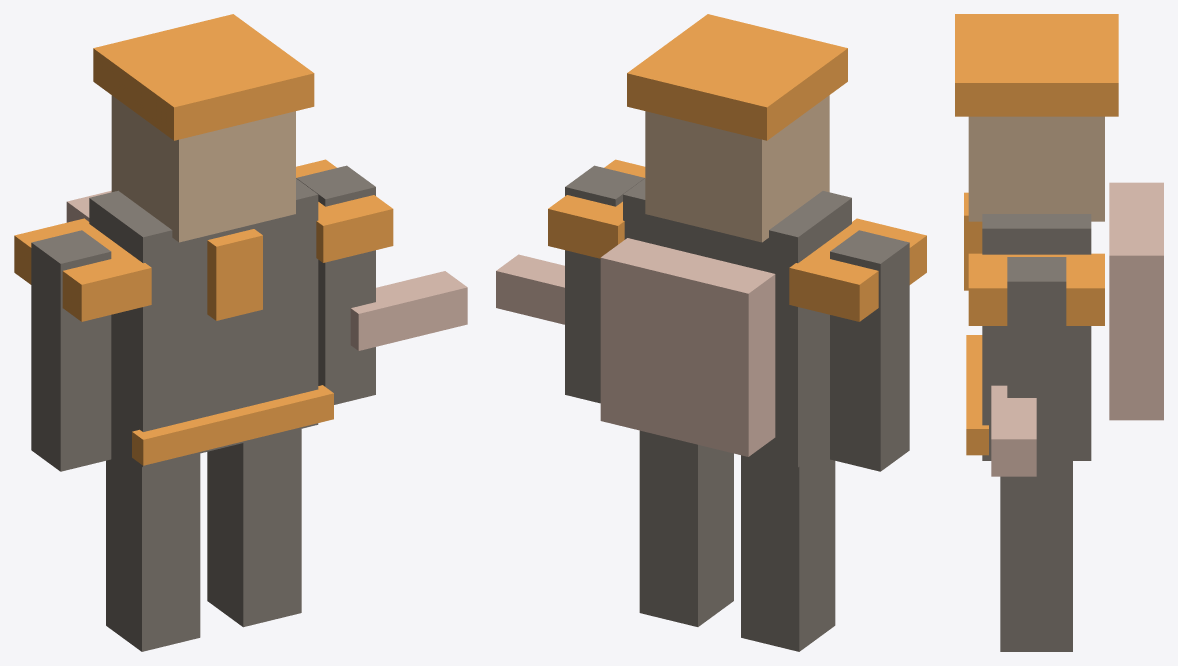
Rendered from 08_korra_voidrill_oracle_of_scribes.glb.
3 views of the same model, side by side, from view 1: azimuth 30°, elevation 25°; view 2: azimuth 150°, elevation 25°; view 3: azimuth 270°, elevation 25° (orthographic).
Parts seen in each view (by area): view 1: Korra Voidrill, Oracle of Scribes'; view 2: Korra Voidrill, Oracle of Scribes'; view 3: Korra Voidrill, Oracle of Scribes'.
Boxes of the visible parts, x1,y1,x2,y2 form: Korra Voidrill, Oracle of Scribes': (14, 14, 467, 651); Korra Voidrill, Oracle of Scribes': (496, 14, 926, 651); Korra Voidrill, Oracle of Scribes': (955, 14, 1163, 651).
Size of the model in its own units: 1.1 by 1.48 by 0.4951.
